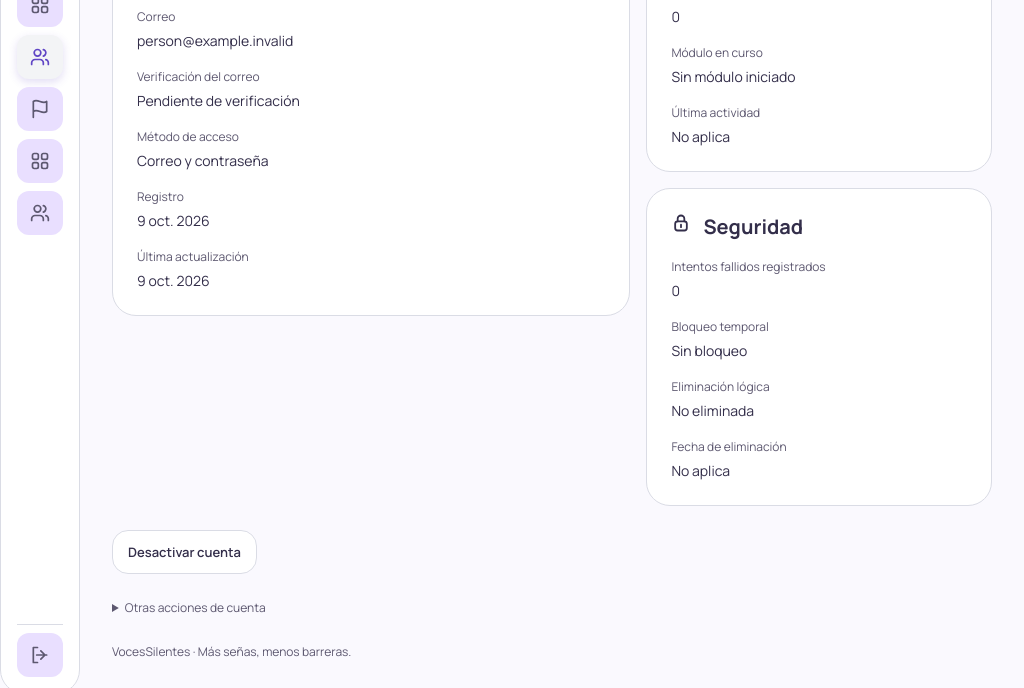
eliminación: conserva fallo del último ADMIN y permite reintentar sin afirmar éxito
(page scrolled)
Click the heading "Otras acciones de cuenta" at (195, 608), box [125,599,266,616]
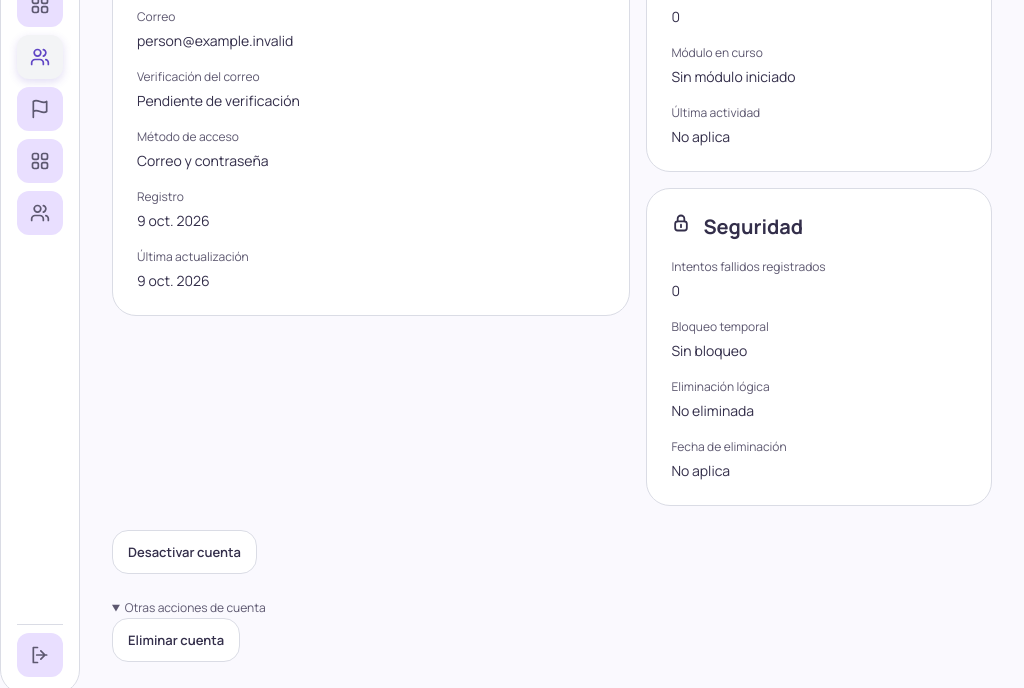
Click the button "Eliminar cuenta" at (176, 640), box [112,618,240,662]
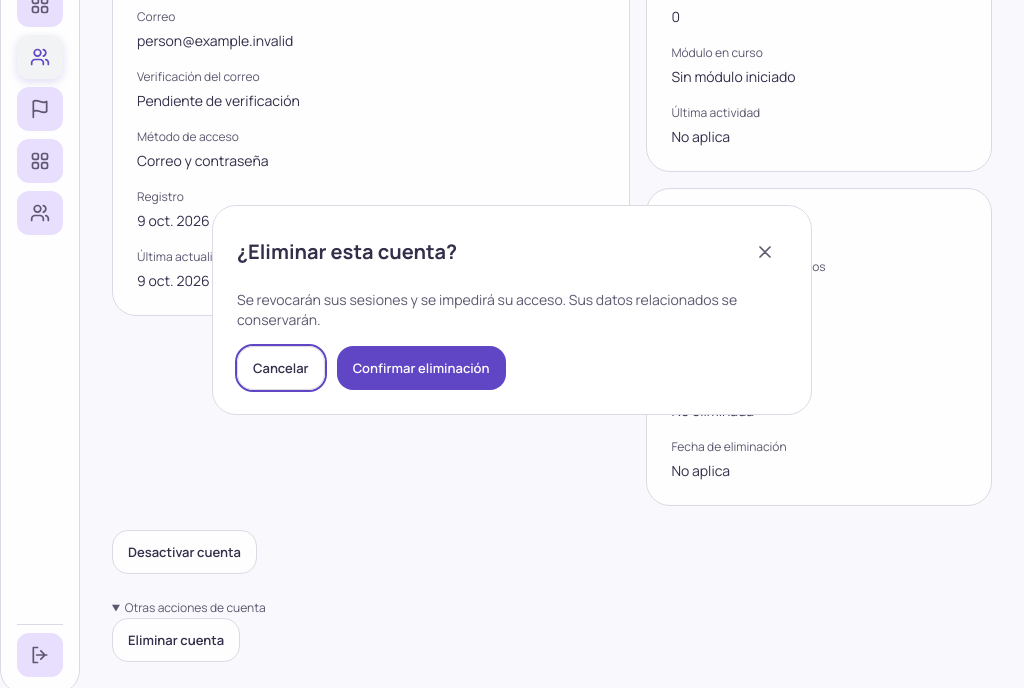
Click the button "Confirmar eliminación" at (421, 368), box [337,346,506,390]
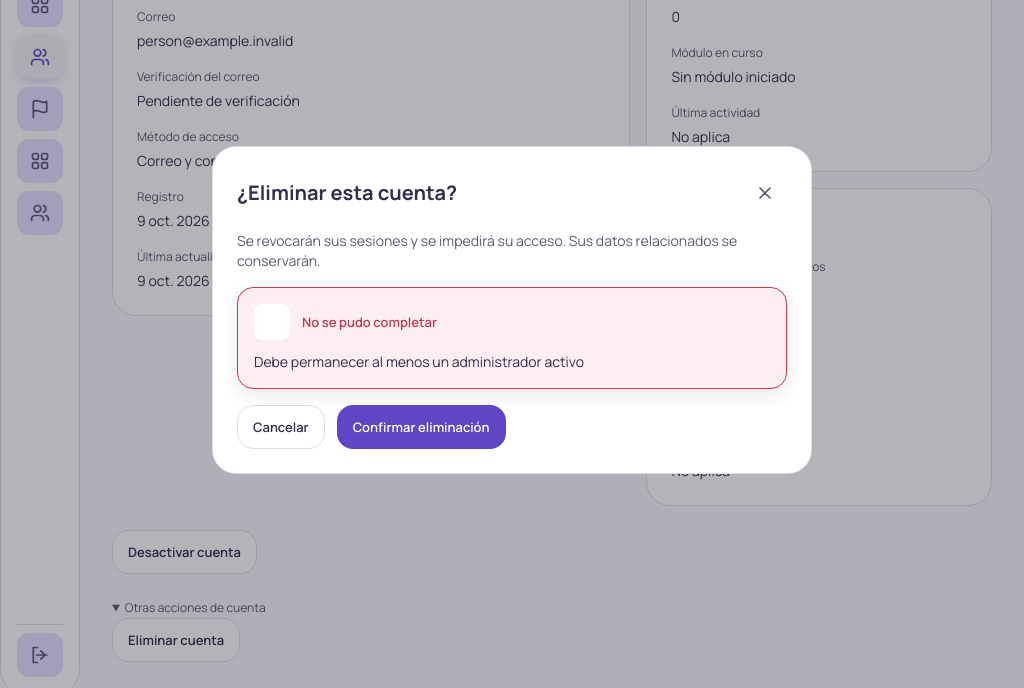
Result: the dialog is shown at [212,146,812,474]
Result: the button "Confirmar eliminación" is enabled at [337,405,506,449]
Result: the text "Debe permanecer al menos un administrador activo" is shown at [254,352,584,371]
